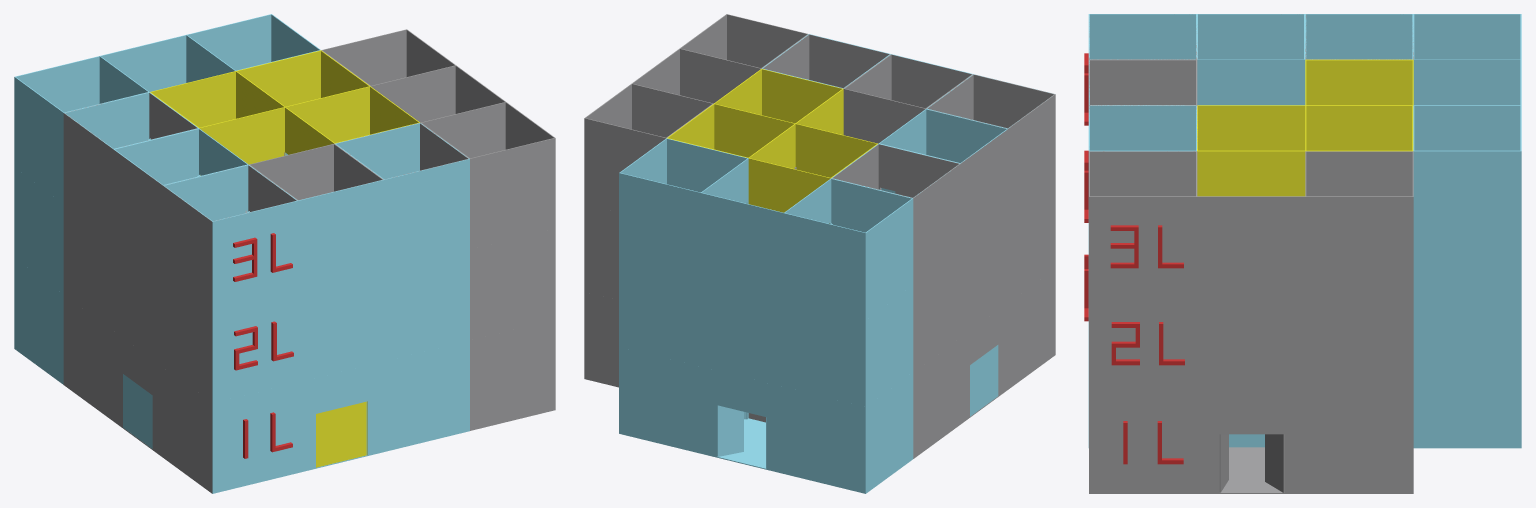
File: 第八组.glb
3 views of the same model, side by side, from view 1: azimuth 30°, elevation 25°; view 2: azimuth 150°, elevation 25°; view 3: azimuth 270°, elevation 25° (orthographic). The views are drawn at different scales.
Size of the model in its own units: 0.0202 by 0.0151 by 0.0202.
